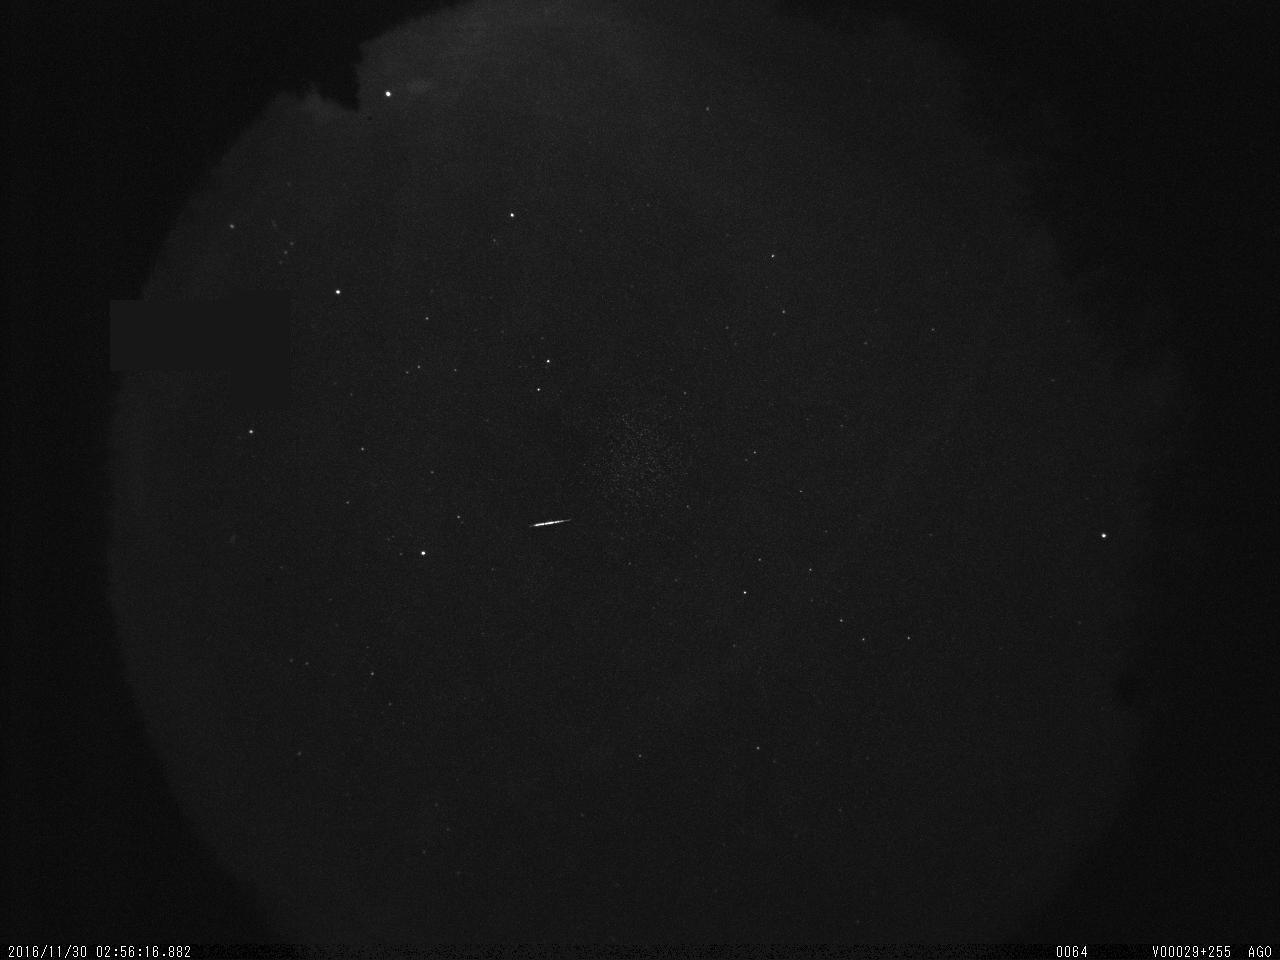meteor: (518, 505, 587, 549)
